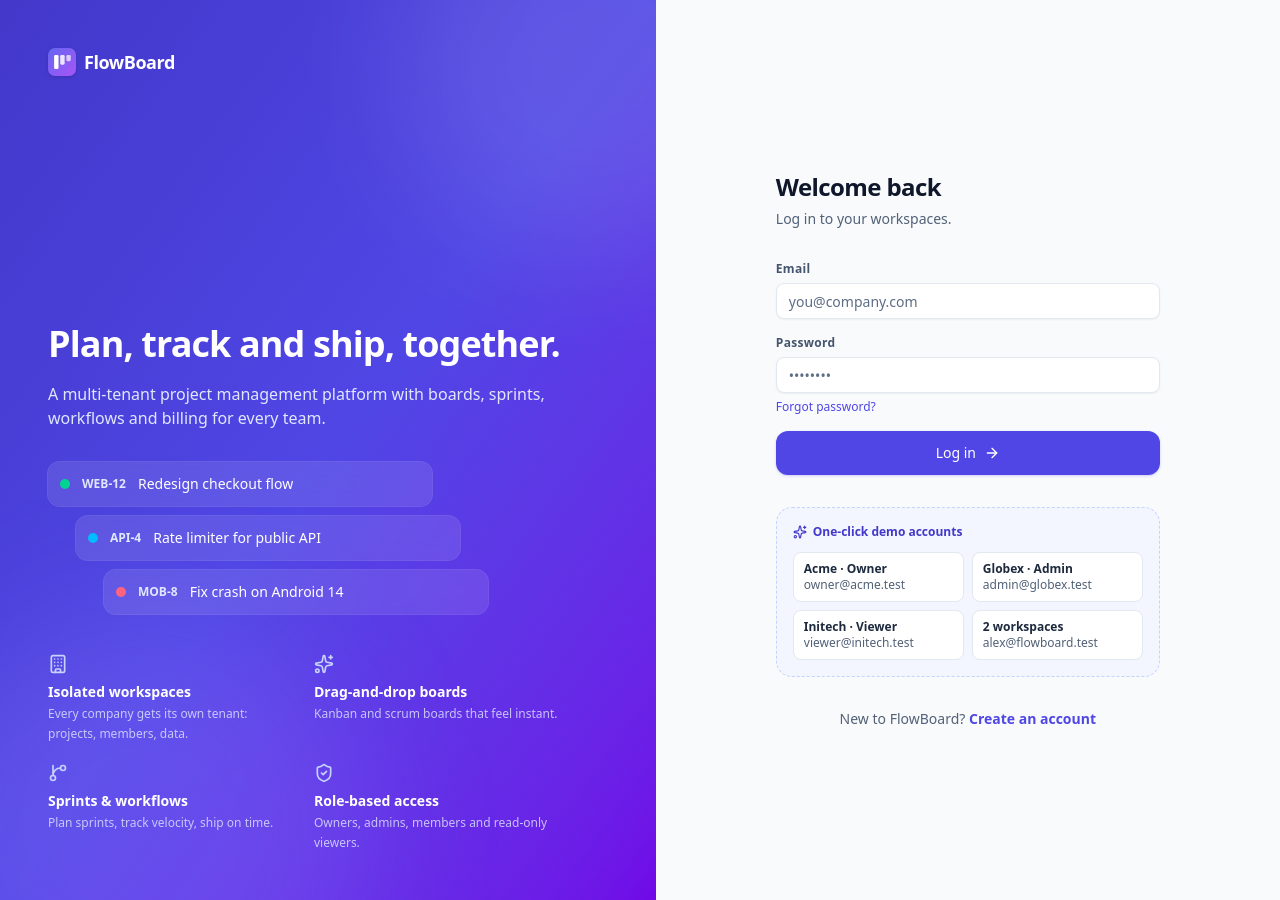
Test: LoginPage › shows the error message when login fails
Type "me@x.com" into the field labelled "Email".
click(968, 301); type("me@x.com")  # box x1=776 y1=283 x2=1160 y2=319
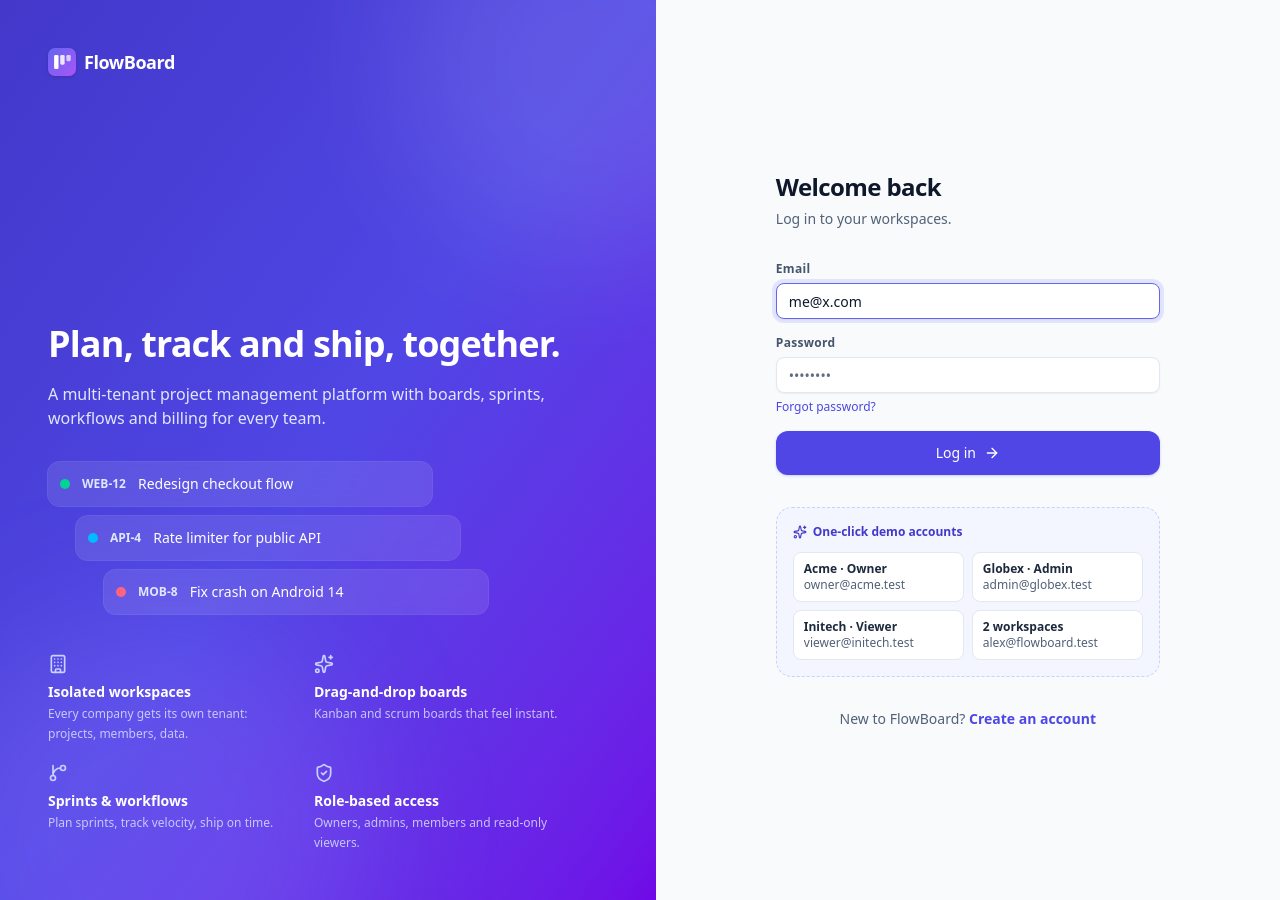
Type "wrong" into the password field labelled "Password".
click(968, 375); type("wrong")  # box x1=776 y1=357 x2=1160 y2=393
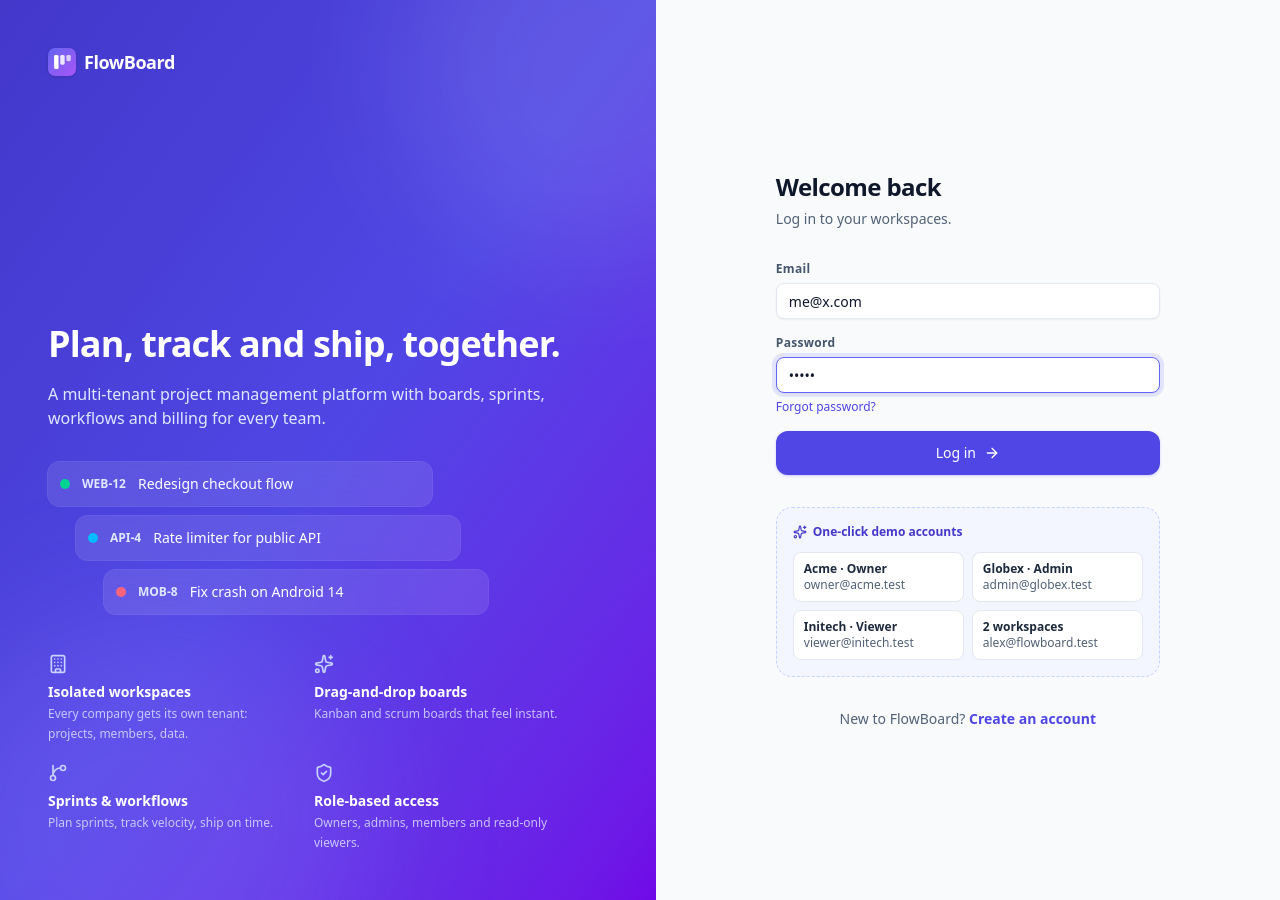
Click the button "Log in".
click(968, 453)  # box x1=776 y1=431 x2=1160 y2=475
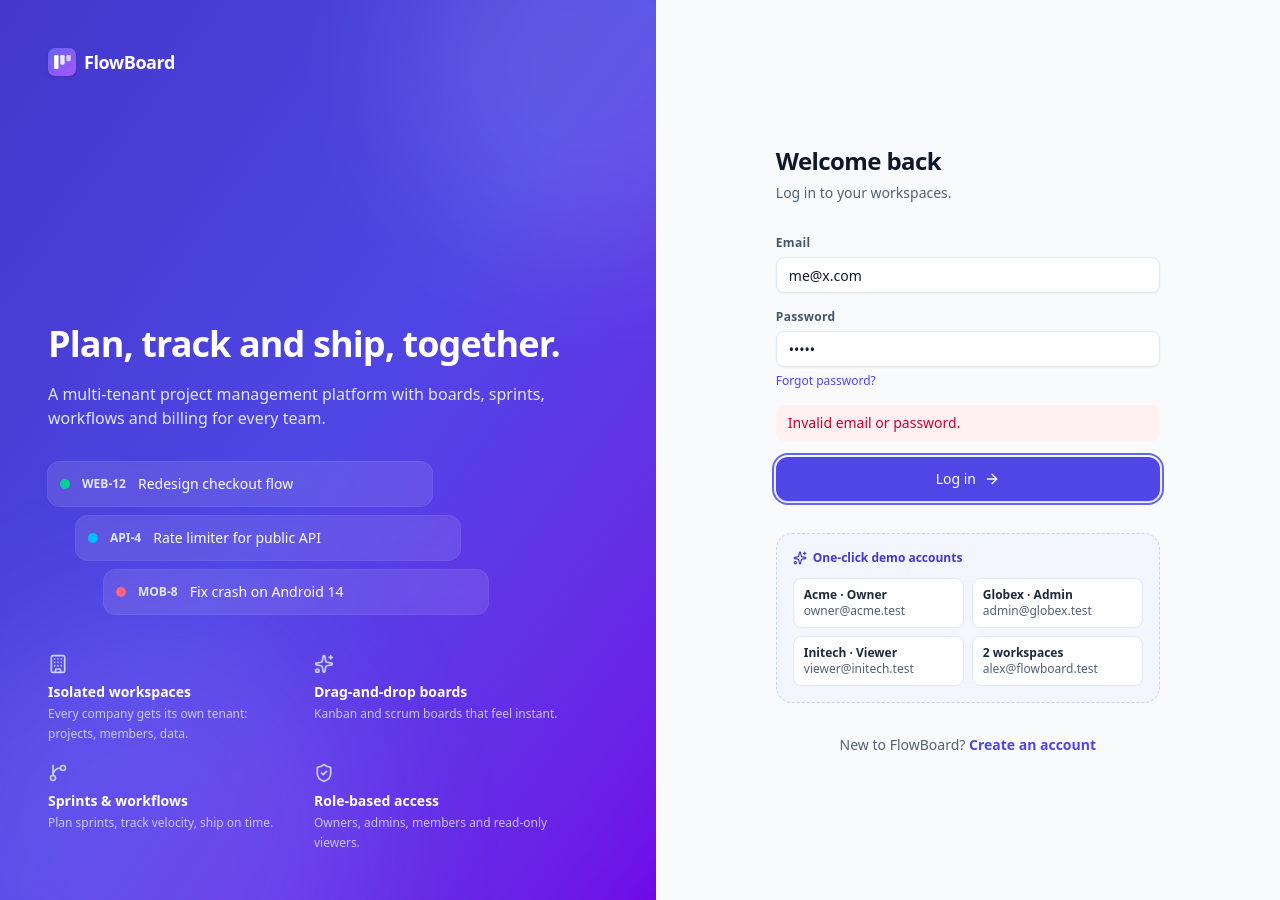
expect the text "Invalid email or password." is shown: met, box x1=776 y1=405 x2=1160 y2=441
